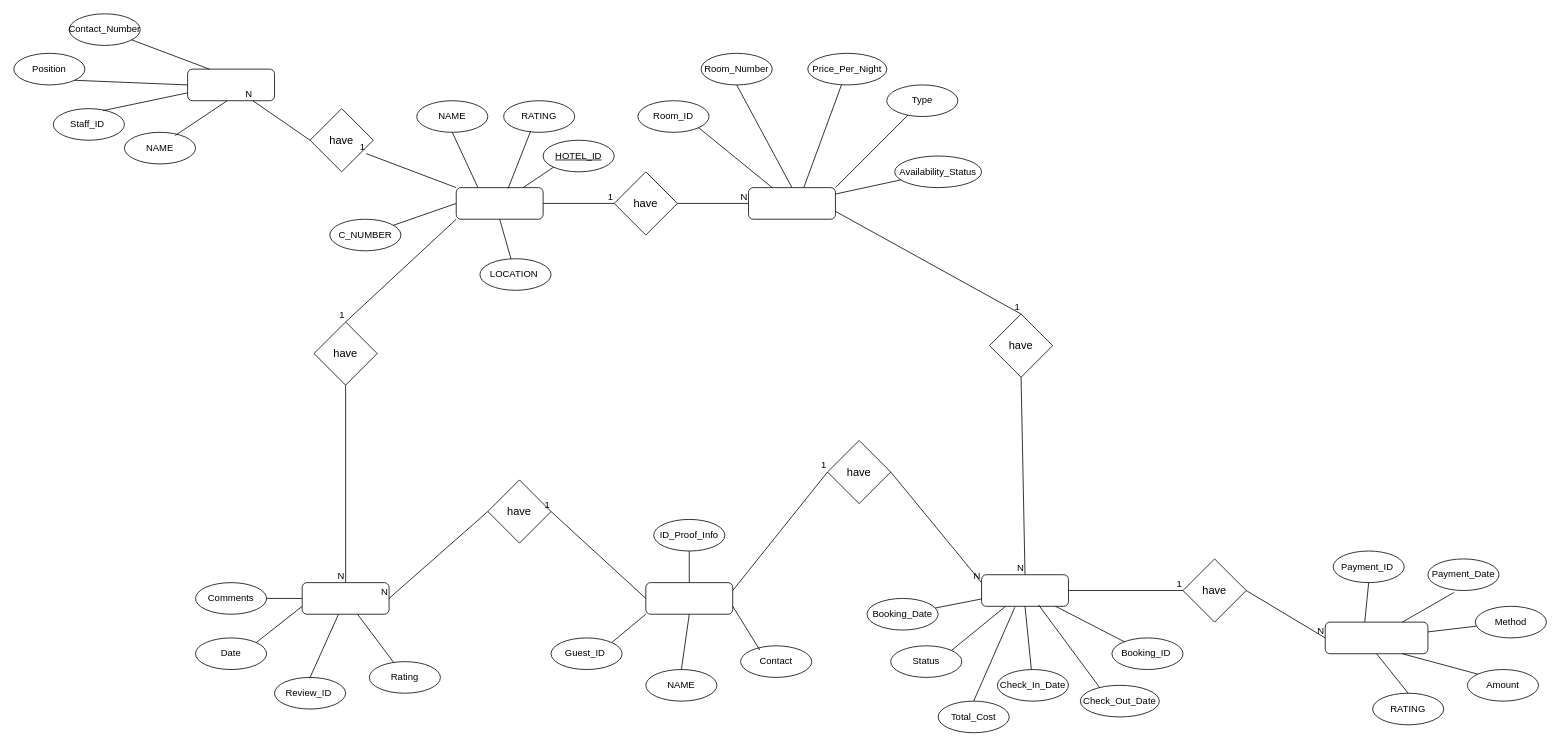
This 1560x747 diagram has some shape labels left out. Each missing label, with the box of its shape:
Booking: (981, 574, 1068, 606)
Guest: (645, 582, 733, 614)
HOTEL: (455, 187, 543, 219)
Payment: (1324, 621, 1428, 654)
Review: (301, 582, 389, 614)
Room: (748, 187, 835, 219)
Staff: (187, 68, 275, 101)
